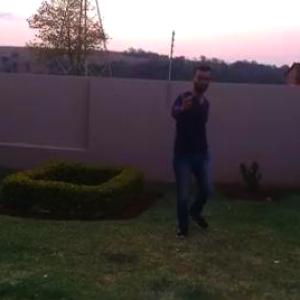takeoff-hand: (177, 83, 197, 112)
